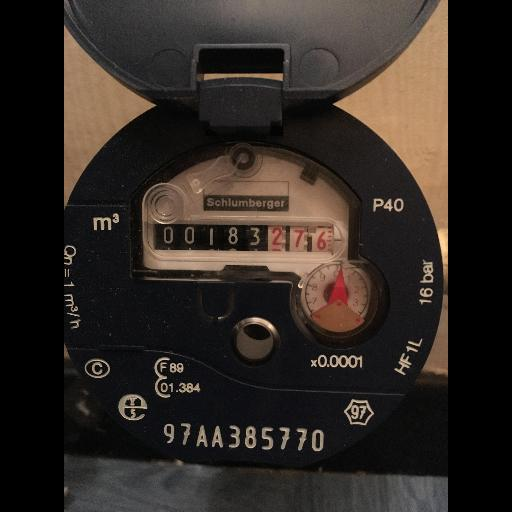0: (154, 224, 178, 250), (178, 224, 201, 250)
1: (201, 224, 223, 250)
2: (267, 225, 287, 251)
3: (247, 225, 268, 251)
6: (310, 225, 331, 251)
7: (287, 226, 310, 252)
8: (224, 225, 247, 251)
border_water_meter_number: (143, 215, 347, 264)
